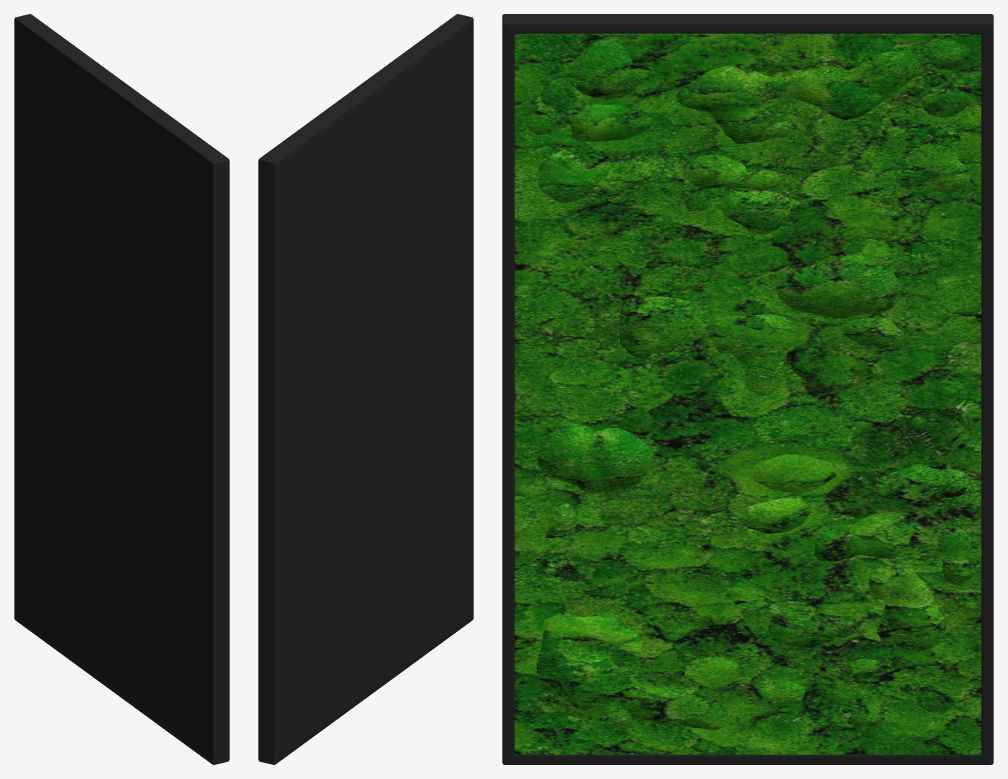
The model's file is Moosbild_Hugelmoos_1000x600mm_black.fbx.
3 views of the same model, side by side, from view 1: azimuth 30°, elevation 25°; view 2: azimuth 150°, elevation 25°; view 3: azimuth 270°, elevation 25° (orthographic). The views are drawn at different scales.
Visible parts, largest first — view 1: edge; view 2: edge; view 3: moss_low, moss20, edge.
Part boxes in pixels (x1,y1,x2,y2): edge: (14, 14, 229, 764); edge: (258, 14, 473, 764); moss_low: (514, 34, 981, 754); moss20: (515, 33, 980, 730); edge: (502, 14, 993, 764).
Size of the model in its own units: 4.95 by 100 by 60.
2 materials, 1 textured.
